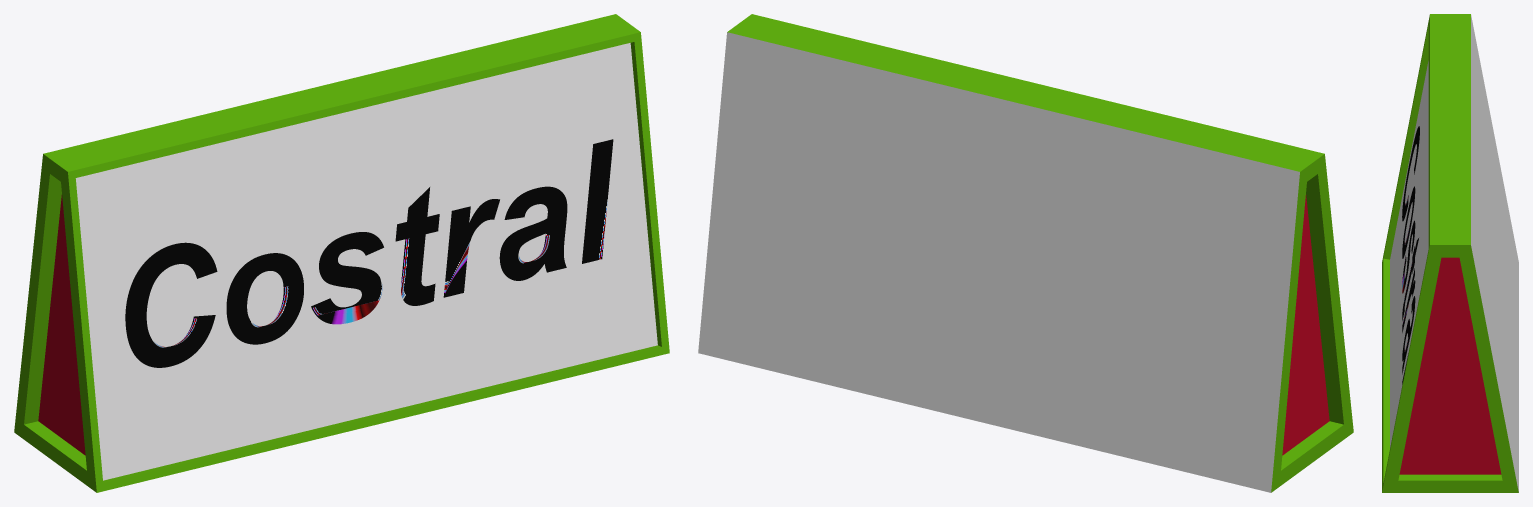
File: Commercial_Costral.fbx
3 renders of one model, left to right at view 1: azimuth 30°, elevation 25°; view 2: azimuth 150°, elevation 25°; view 3: azimuth 270°, elevation 25°, orthographic. The views are drawn at different scales.
Parts seen in each view (by area): view 1: Plane, Text; view 2: Plane; view 3: Plane, Text.
Part boxes in pixels (<box>): Plane: <box>14,14,669,492</box>; Text: <box>125,139,613,367</box>; Plane: <box>698,14,1353,492</box>; Plane: <box>1382,14,1518,492</box>; Text: <box>1402,126,1419,384</box>.
Size of the model in its own units: 4 by 2 by 1.
